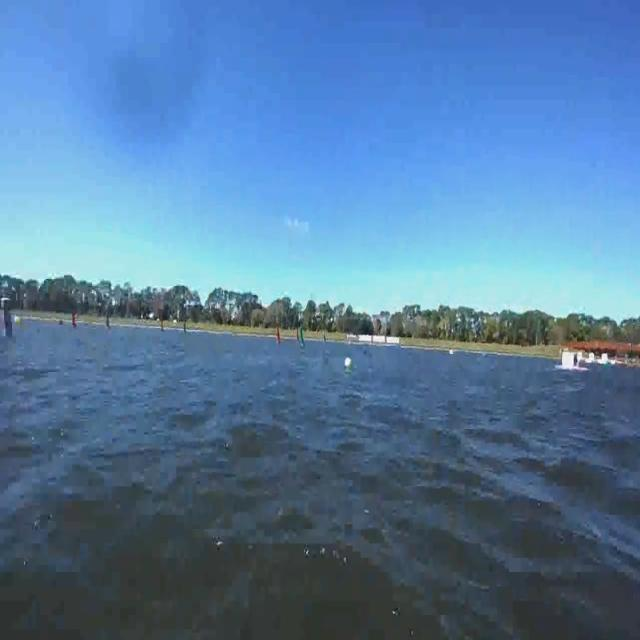green-column-buoy: (105, 309, 112, 331), (298, 327, 304, 347), (186, 321, 190, 336)
red-column-buoy: (276, 328, 282, 347), (72, 310, 78, 329), (160, 316, 167, 332)
yellow-buoy: (15, 316, 21, 326)
